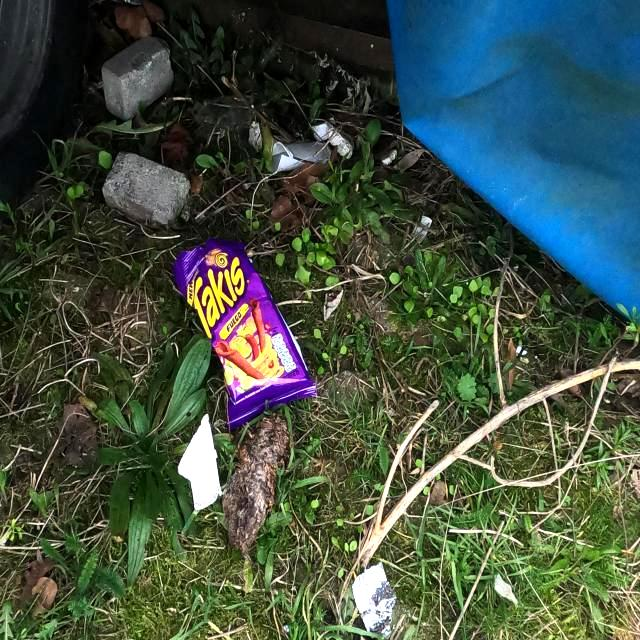Plastic: (172, 236, 318, 436)
